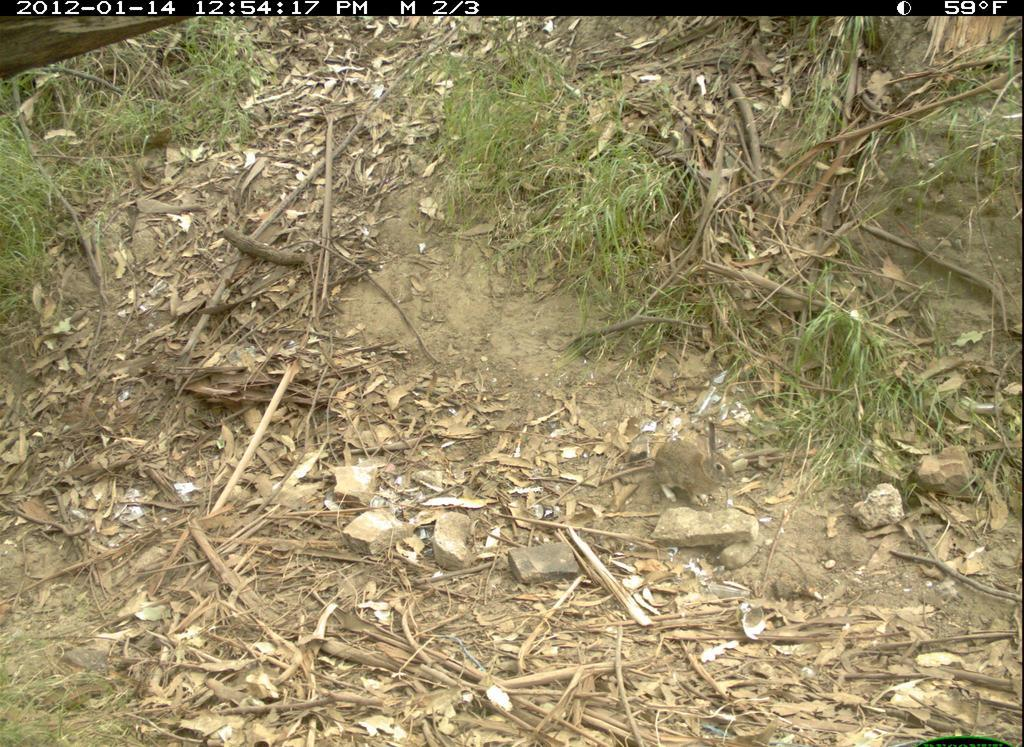rabbit: (644, 410, 757, 515)
